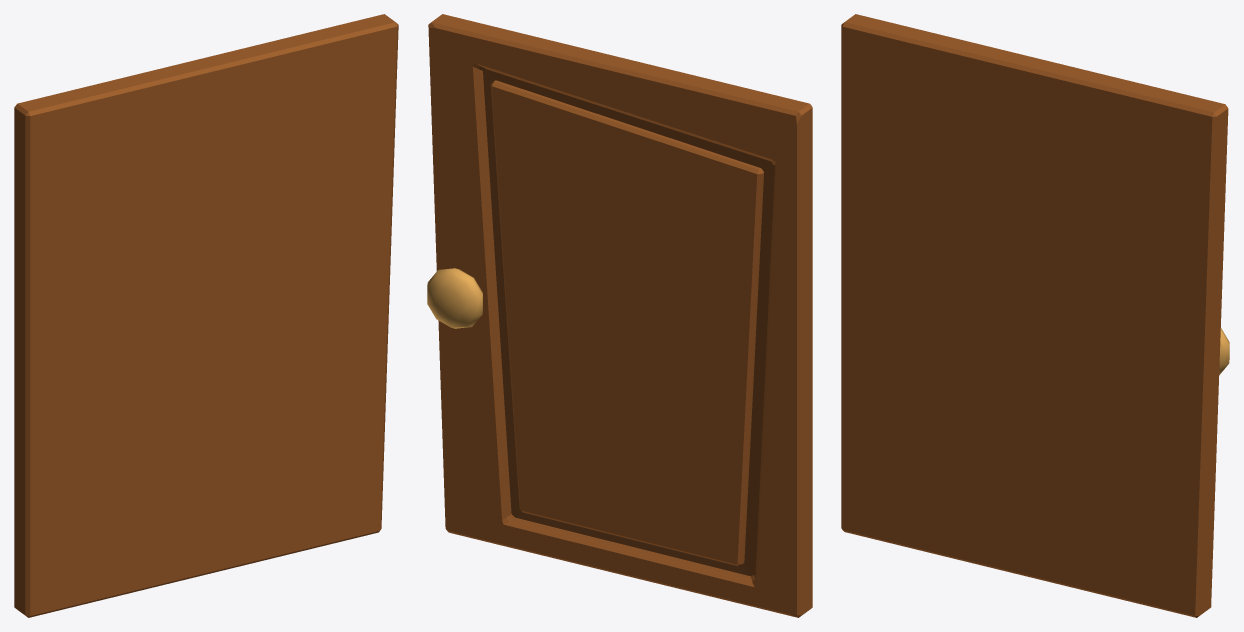
The model's file is Teacher_desk_1.fbx.
3 views of the same model, side by side, from view 1: azimuth 30°, elevation 25°; view 2: azimuth 150°, elevation 25°; view 3: azimuth 330°, elevation 25° (orthographic).
Parts seen in each view (by area): view 1: Teacher_desk_1; view 2: Teacher_desk_1; view 3: Teacher_desk_1.
Boxes of the visible parts, x1,y1,x2,y2 form: Teacher_desk_1: [14, 14, 398, 617]; Teacher_desk_1: [427, 14, 812, 617]; Teacher_desk_1: [841, 14, 1229, 617].
Bounding box in the file's own units: 0.5241 × 0.6793 × 0.0804.
